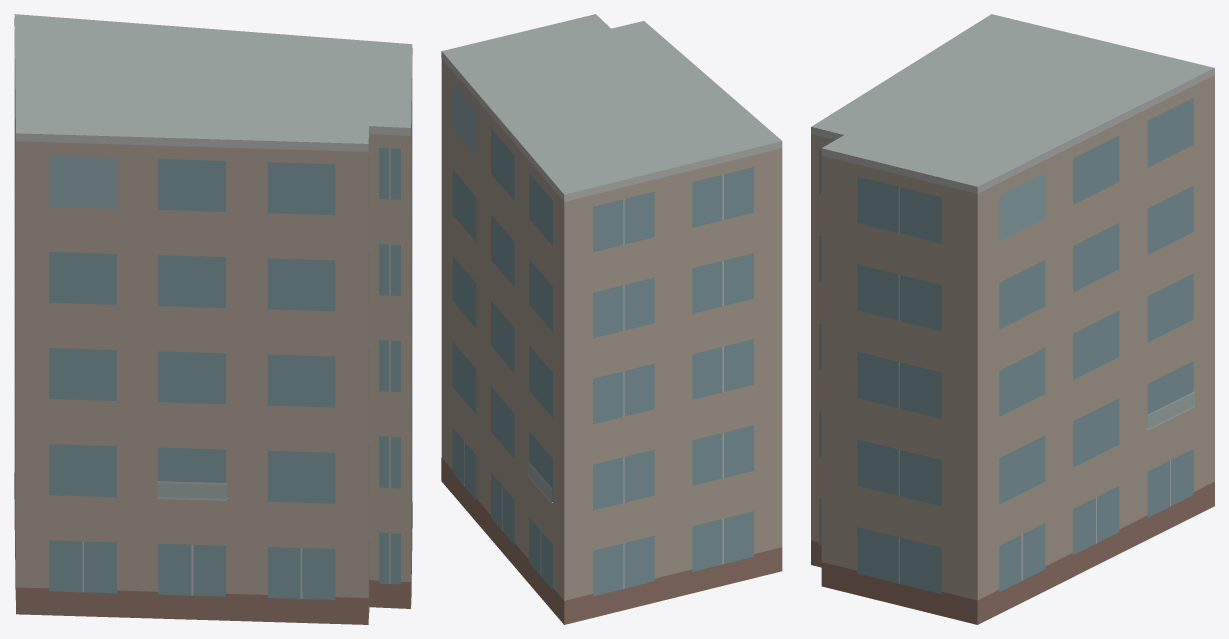
The model's file is survey-upis-32785000.glb.
3 views of the same model, side by side, from view 1: azimuth 30°, elevation 25°; view 2: azimuth 150°, elevation 25°; view 3: azimuth 270°, elevation 25° (orthographic). The views are drawn at different scales.
Visible parts, largest first — view 1: survey-upis-32785000.tmp; view 2: survey-upis-32785000.tmp; view 3: survey-upis-32785000.tmp.
Boxes of the visible parts, box(x1,y1,x2,y2) form: survey-upis-32785000.tmp: box(14, 14, 412, 624); survey-upis-32785000.tmp: box(441, 14, 782, 624); survey-upis-32785000.tmp: box(811, 14, 1214, 624).
Size of the model in its own units: 12.44 by 14.7 by 12.29.
